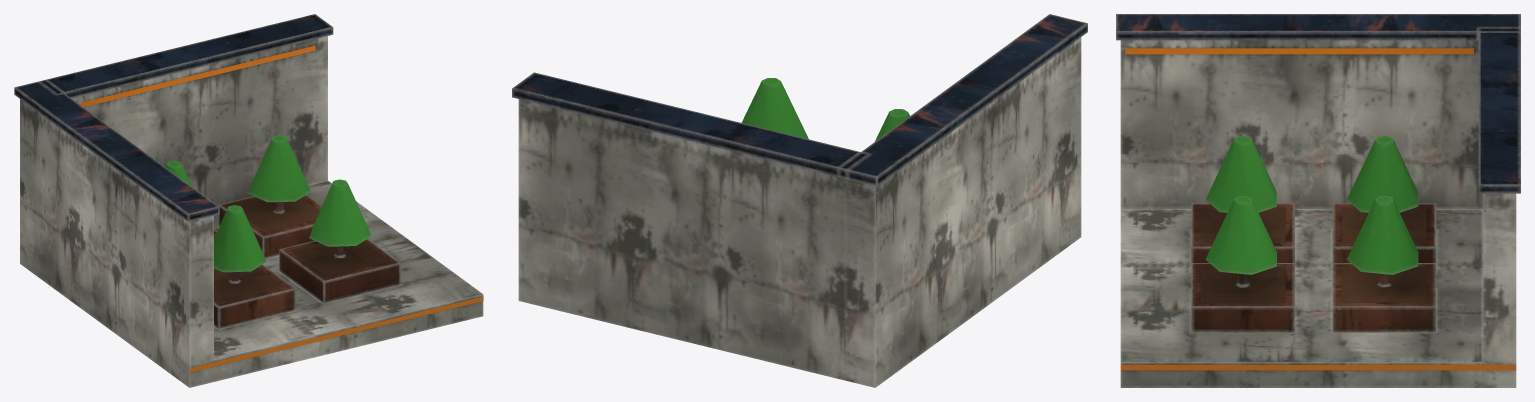
Rendered from luxury_promenade.glb.
The picture shows the model from 3 angles, left to right: view 1: azimuth 30°, elevation 25°; view 2: azimuth 150°, elevation 25°; view 3: azimuth 270°, elevation 25°; orthographic projection. The views are drawn at different scales.
Parts seen in each view (by area): view 1: te_luxury_promenade; view 2: te_luxury_promenade; view 3: te_luxury_promenade.
Part boxes in pixels (x1=…): te_luxury_promenade: x1=14, y1=14, x2=483, y2=387; te_luxury_promenade: x1=512, y1=14, x2=1087, y2=387; te_luxury_promenade: x1=1116, y1=14, x2=1520, y2=387.
Bounding box in the file's own units: 0.86 × 0.48 × 0.86.
1 material, 1 textured.
